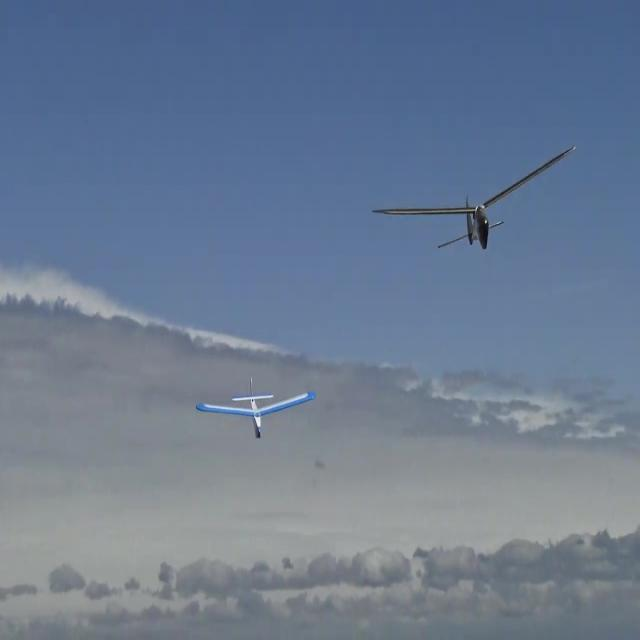iha: (369, 167, 578, 217), (228, 407, 285, 408)
